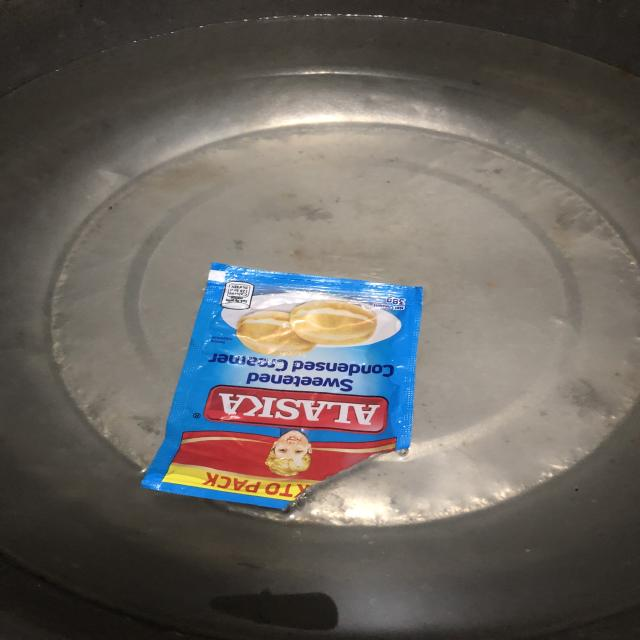Plastic Wrapper: (112, 246, 470, 524)
